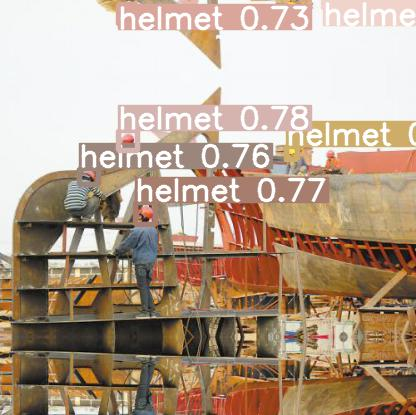helmet: (135, 202, 155, 224), (118, 130, 137, 150), (118, 4, 136, 24), (79, 168, 98, 184), (286, 146, 297, 159), (323, 0, 337, 8)
